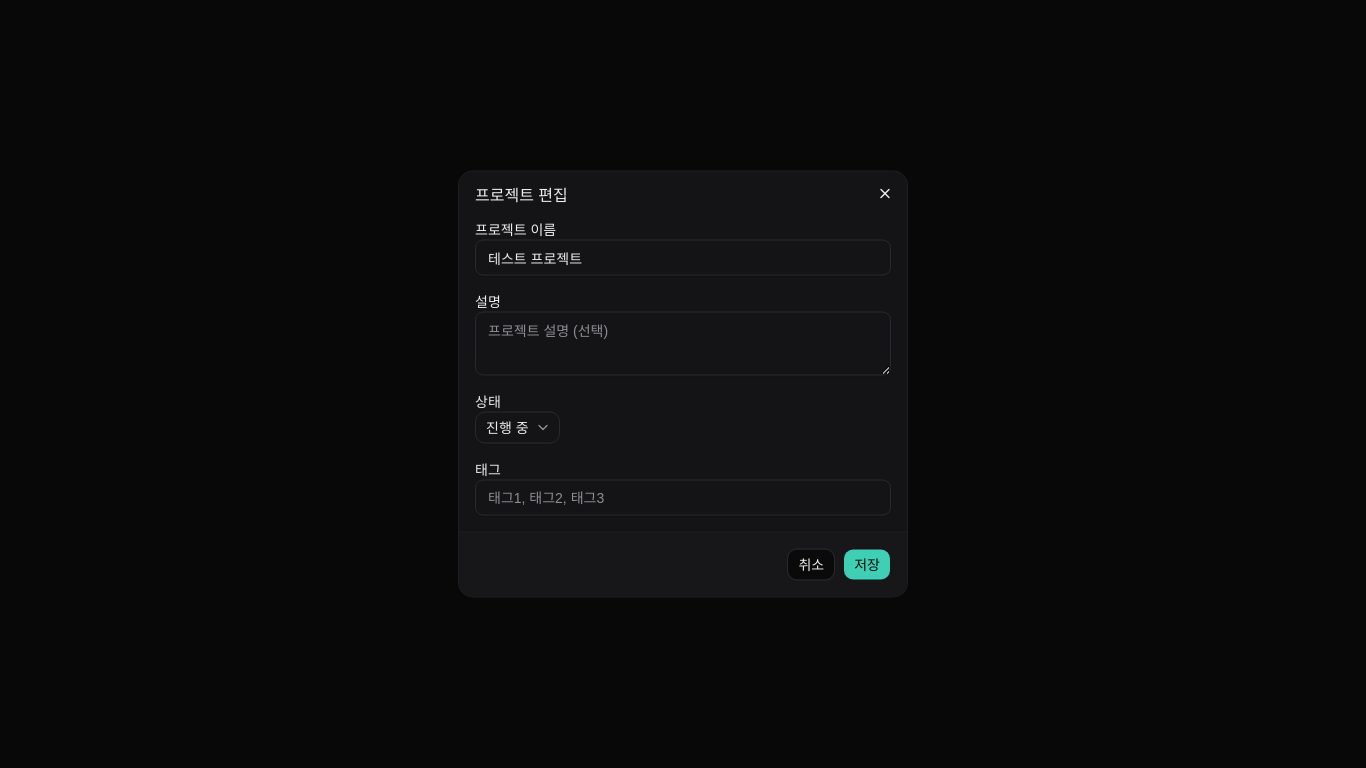
Test: EditProjectDialog — 상태 선택지 권한 › member 는 보관 선택지를 보지 않는다
Click the dropdown with test id "edit-project-status".
click(517, 428)  # box [475,412,560,444]
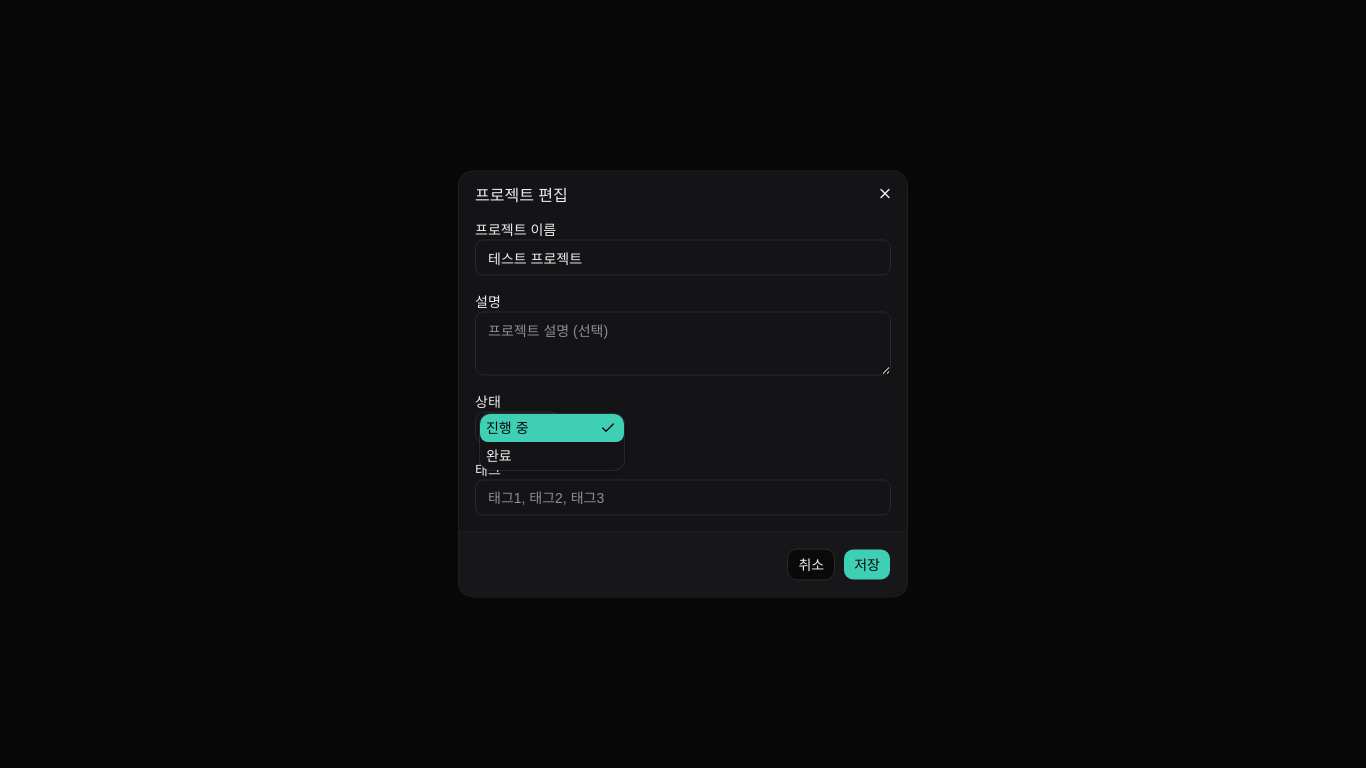
Now the option "완료" is shown, box [486,448,512,464]
